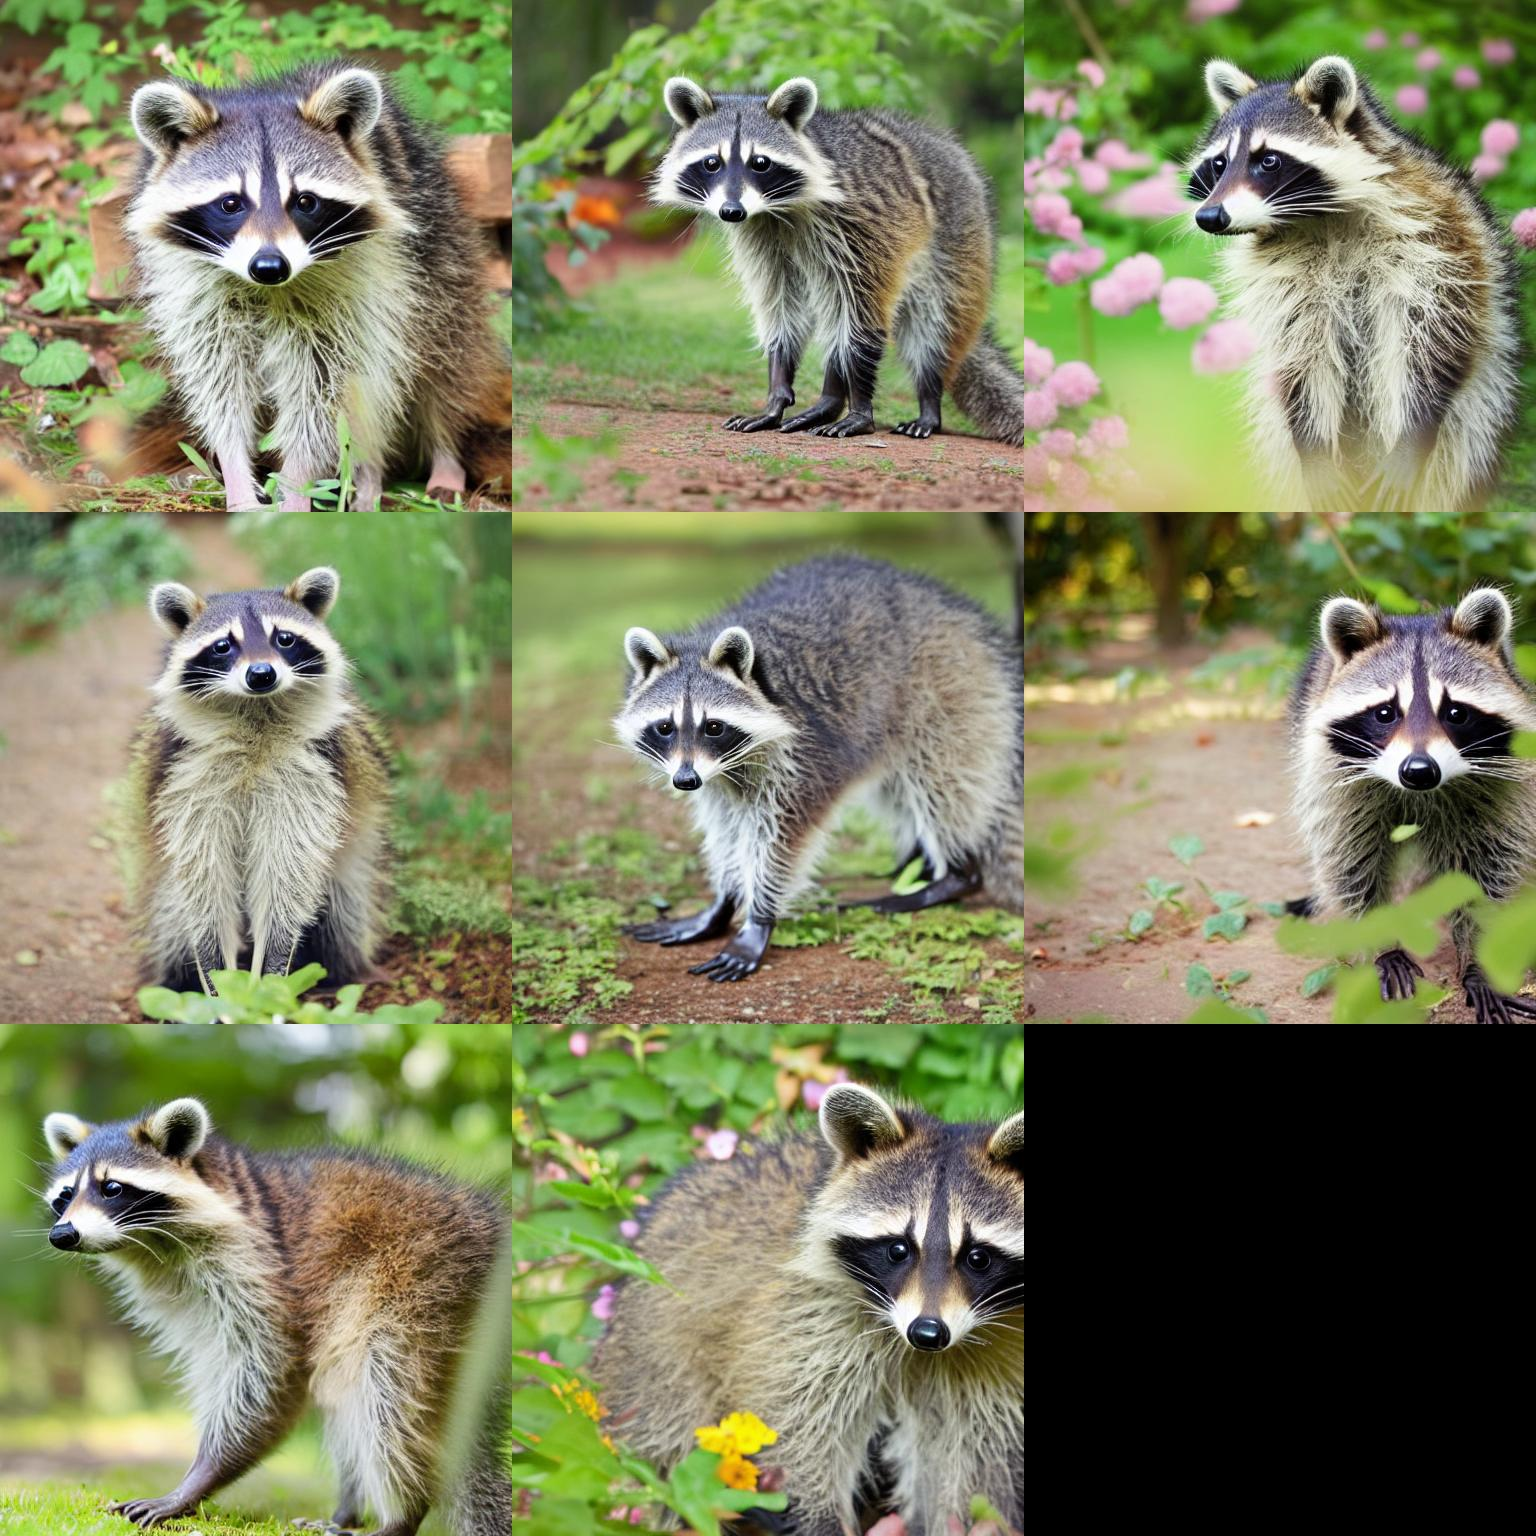raccoon: (595, 1073, 1021, 1536), (15, 1092, 509, 1450), (118, 52, 504, 495), (1176, 44, 1519, 470), (602, 543, 1021, 872), (643, 66, 1027, 402), (115, 556, 402, 980), (1286, 581, 1536, 947)
